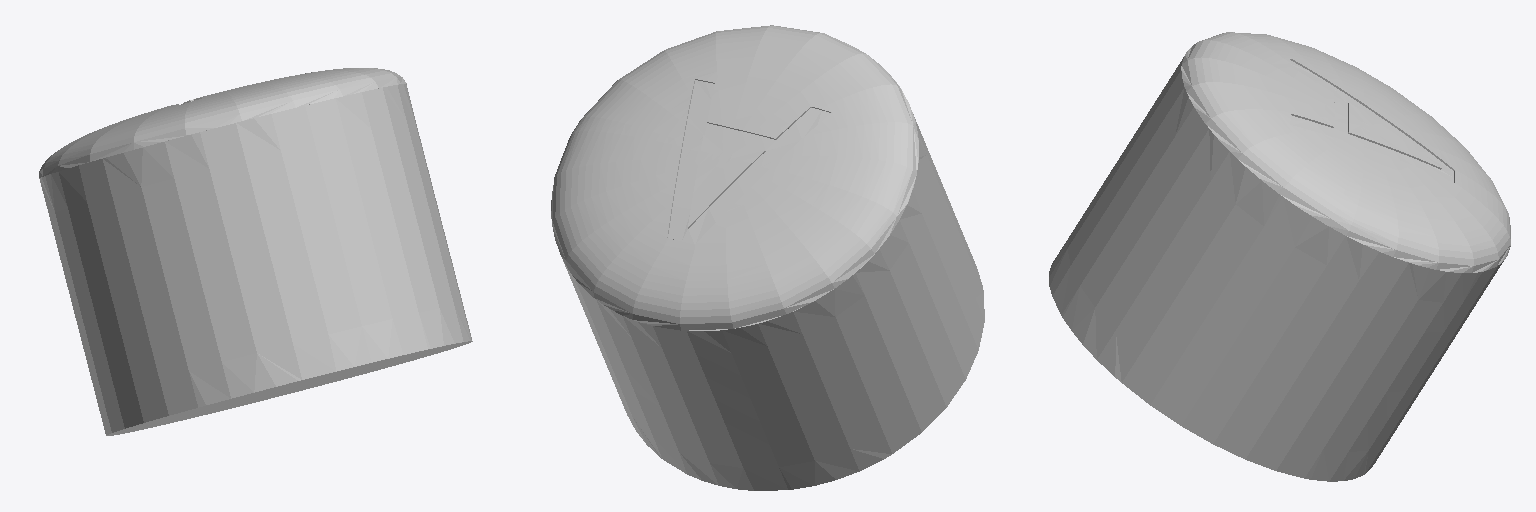
File: button_a.obj
3 views of the same model, side by side, from view 1: azimuth 30°, elevation 25°; view 2: azimuth 150°, elevation 25°; view 3: azimuth 270°, elevation 25° (orthographic).
Parts seen in each view (by area): view 1: button_a.001; view 2: button_a.001; view 3: button_a.001.
Part boxes in pixels (bbox=[...]): button_a.001: bbox=[39, 68, 472, 435]; button_a.001: bbox=[551, 25, 984, 490]; button_a.001: bbox=[1049, 32, 1510, 481].
Bounding box in the file's own units: 0.01 × 0.0113 × 0.0122.